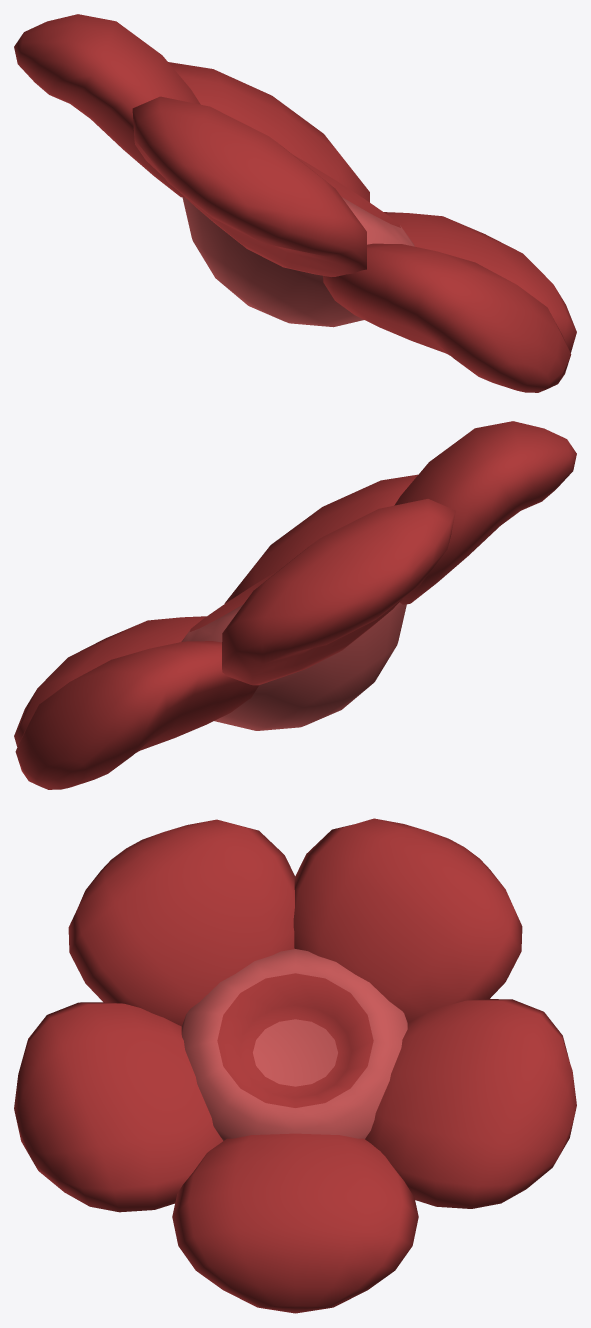
File: flower color.fbx
The picture shows the model from 3 angles, top to bottom: view 1: azimuth 30°, elevation 25°; view 2: azimuth 150°, elevation 25°; view 3: azimuth 270°, elevation 25°; orthographic projection. The views are drawn at different scales.
Parts seen in each view (by area): view 1: Sphere.012, Sphere.011; view 2: Sphere.012, Sphere.011; view 3: Sphere.012, Sphere.011.
Boxes of the visible parts, bbox=[...] form: Sphere.012: bbox=[14, 14, 576, 392]; Sphere.011: bbox=[182, 155, 414, 327]; Sphere.012: bbox=[14, 421, 576, 789]; Sphere.011: bbox=[181, 568, 406, 730]; Sphere.012: bbox=[14, 818, 576, 1313]; Sphere.011: bbox=[181, 949, 407, 1140].
Size of the model in its own units: 79.37 by 63.48 by 101.
